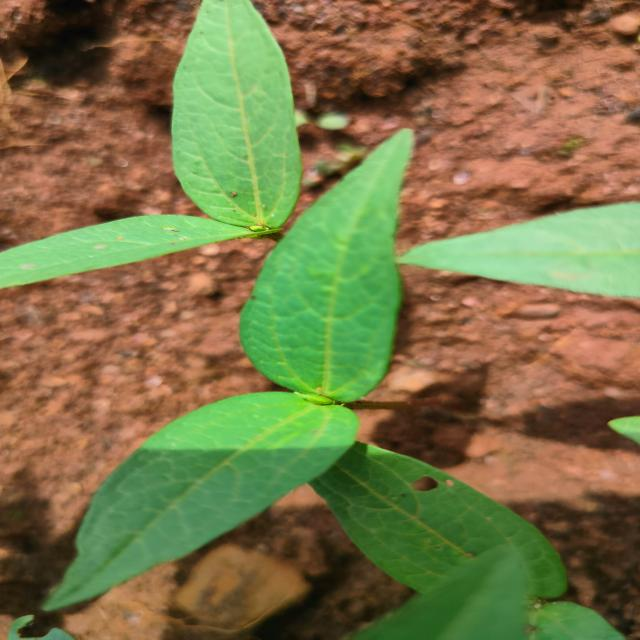Black gram_healthy: (48, 390, 355, 606), (298, 421, 567, 605), (238, 130, 408, 400), (164, 0, 304, 226), (397, 202, 640, 306), (0, 216, 261, 291)
